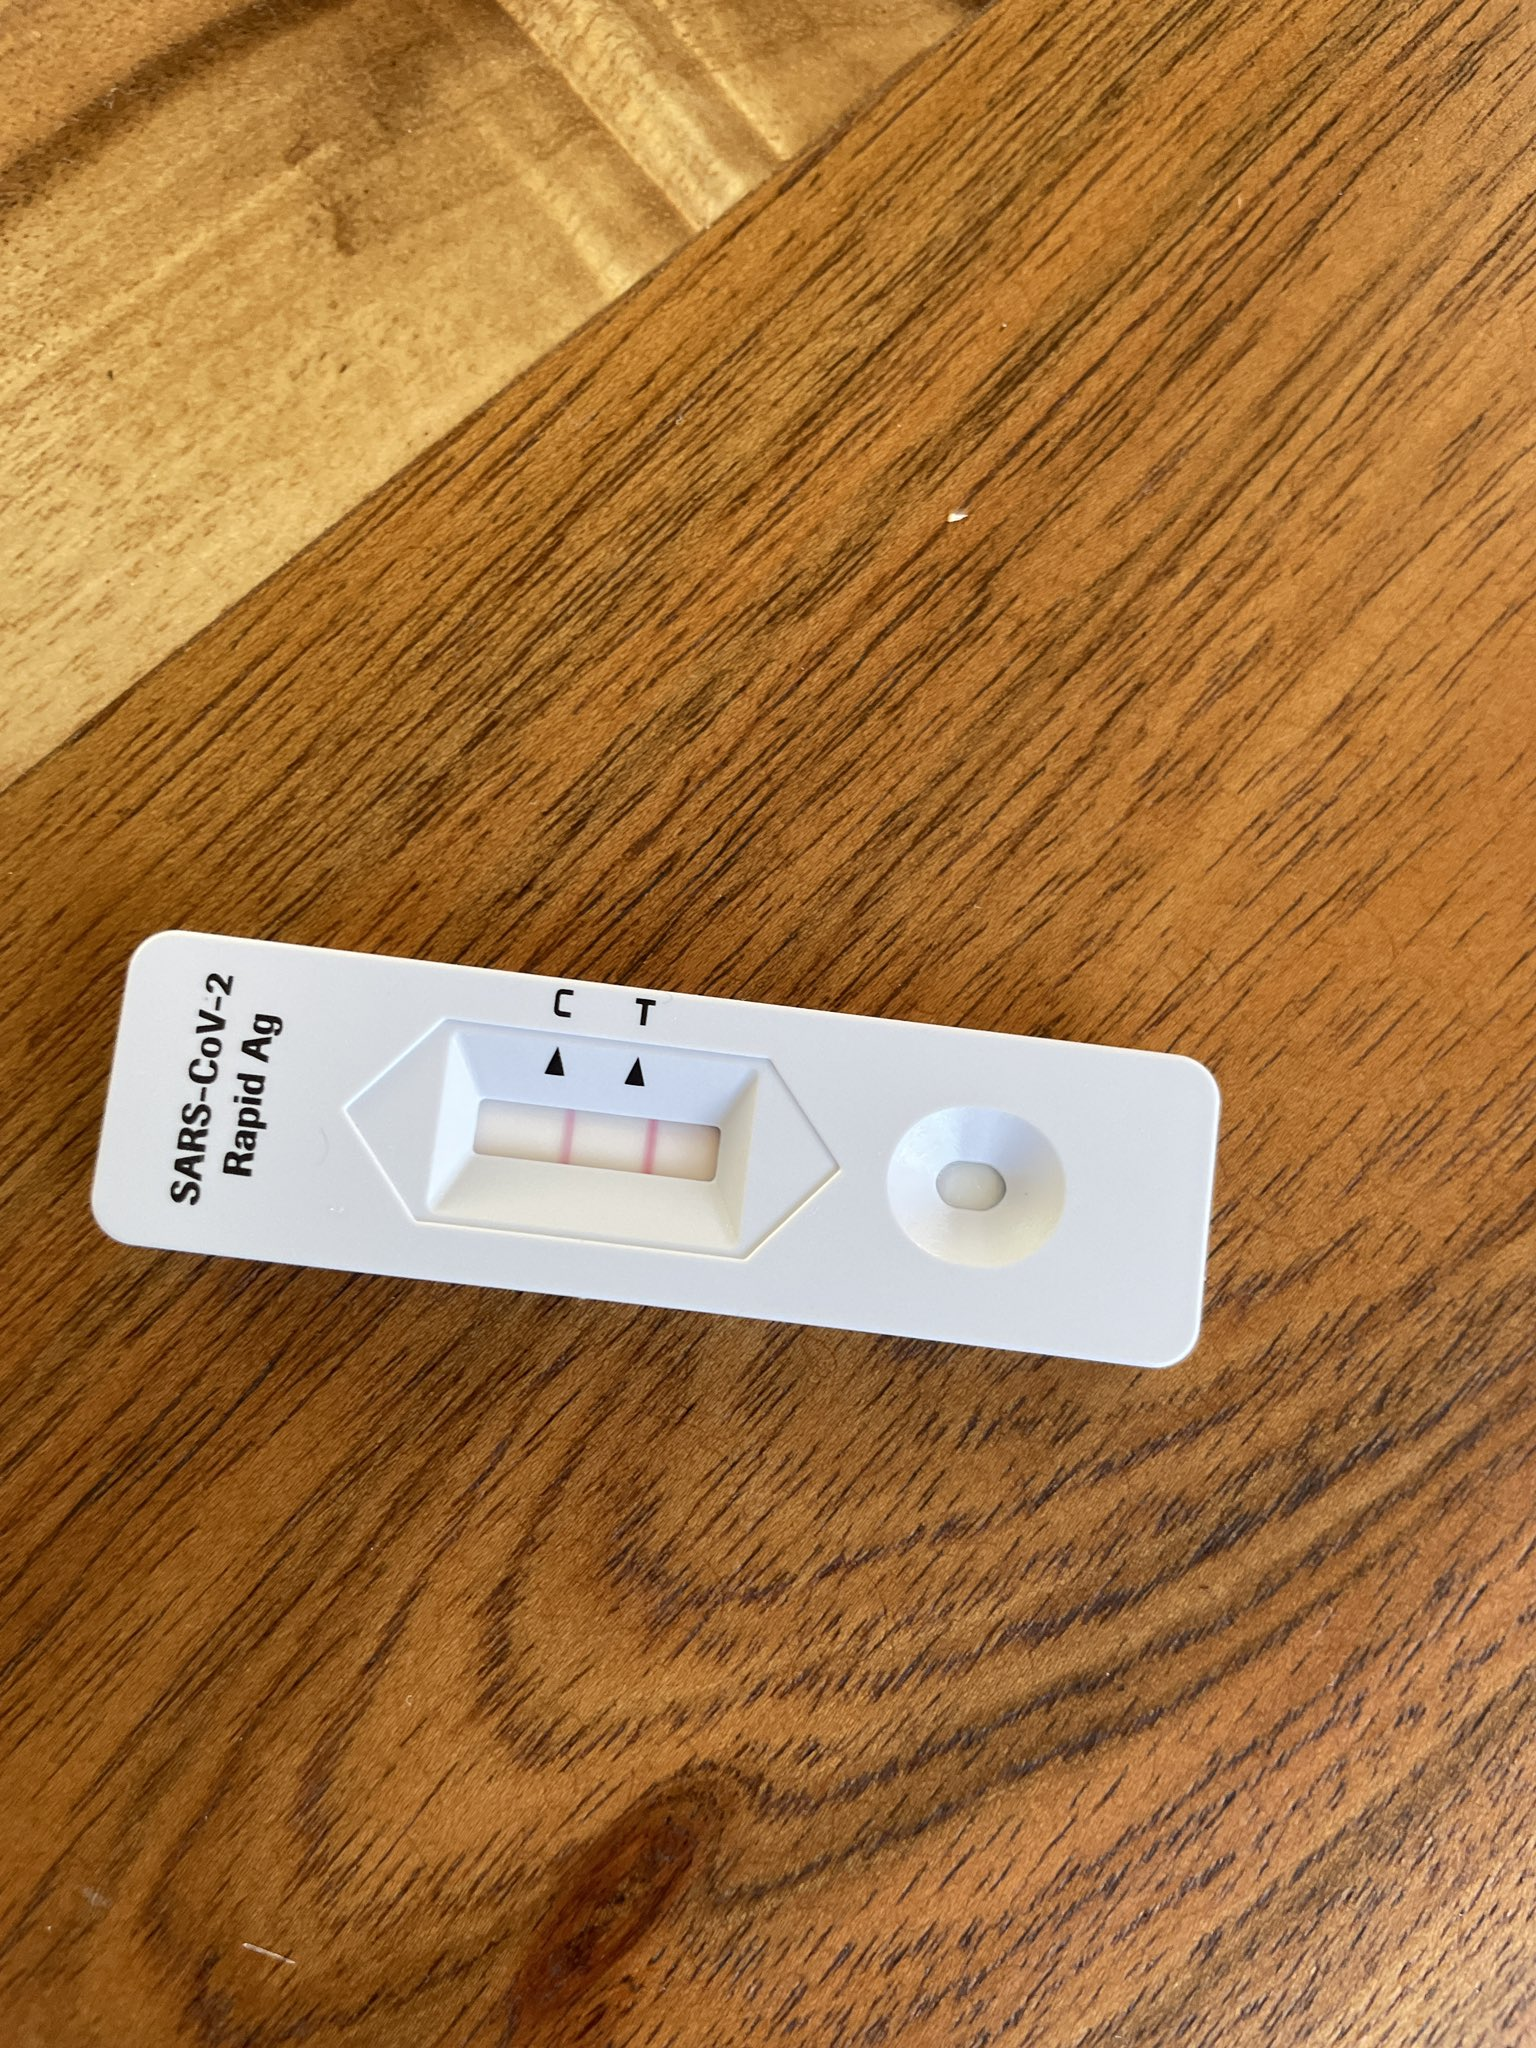positive: (432, 1082, 731, 1201)
